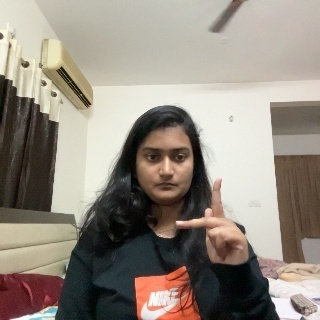Okay: (171, 176, 258, 274)
